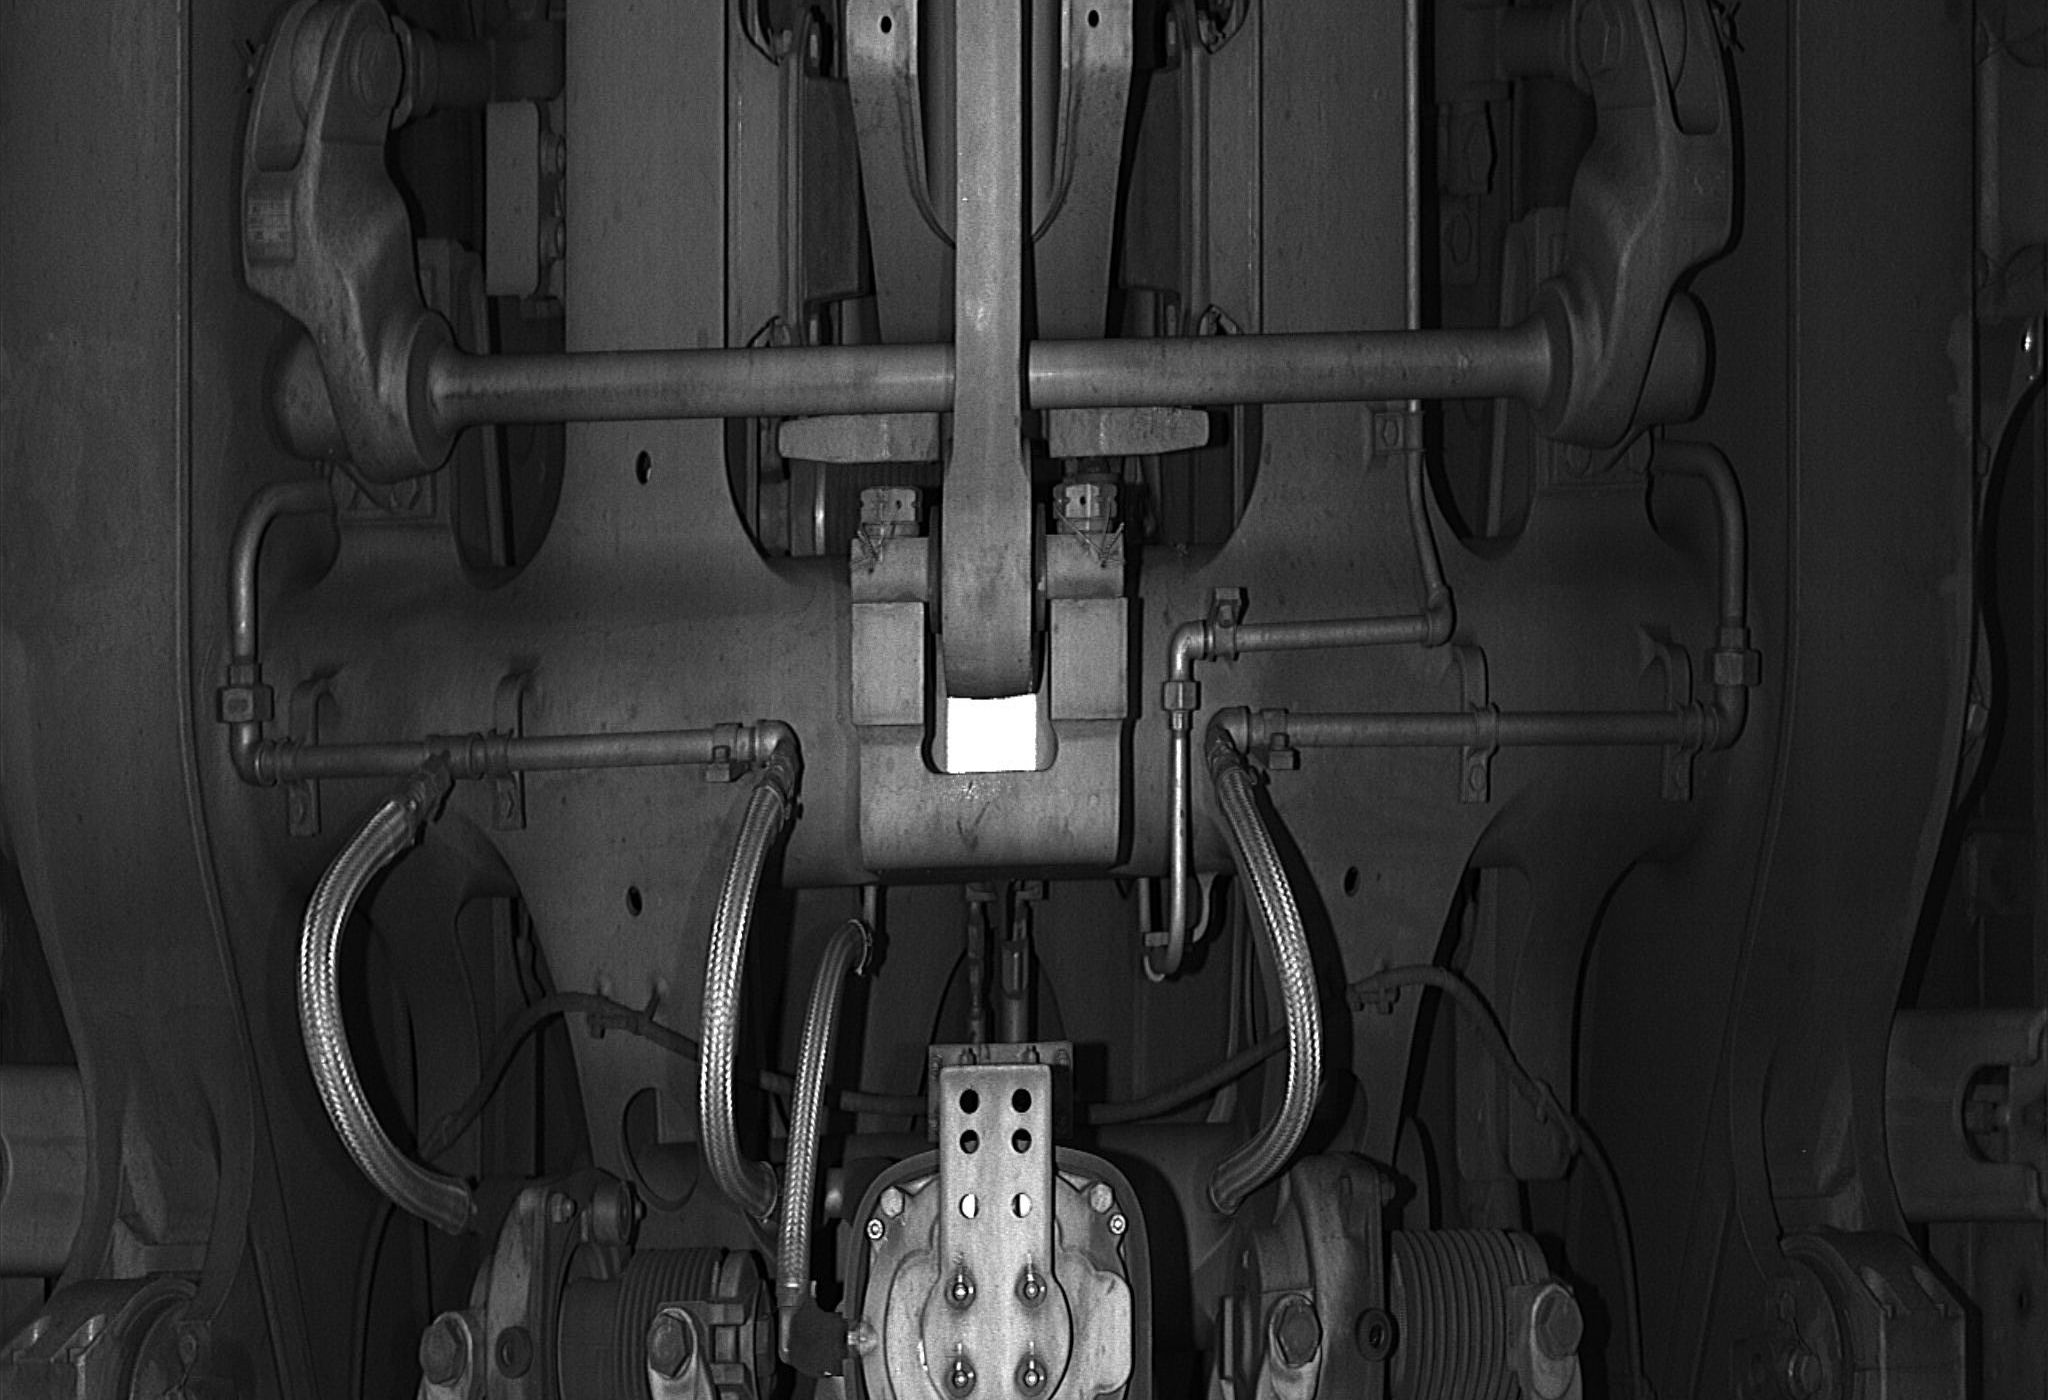area: (882, 1168, 1136, 1400), (1289, 1168, 1402, 1395), (492, 1173, 559, 1398)
